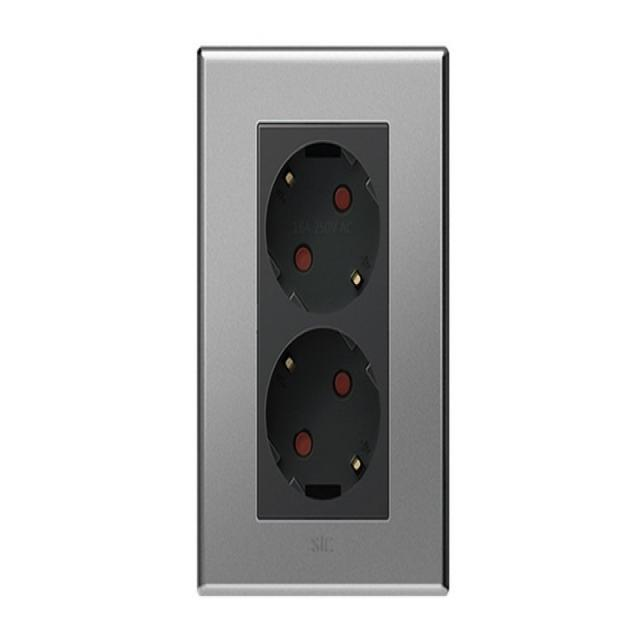typeb: (171, 29, 478, 640)
